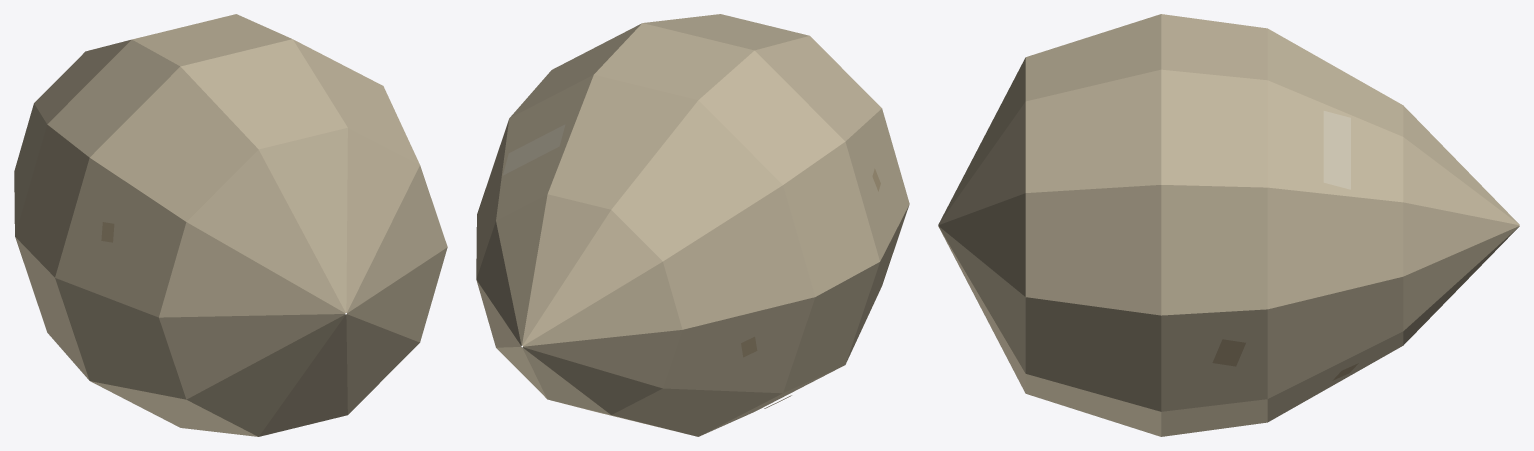
File: weeble_egg.glb
The picture shows the model from 3 angles, left to right: view 1: azimuth 30°, elevation 25°; view 2: azimuth 150°, elevation 25°; view 3: azimuth 270°, elevation 25°; orthographic projection.
Visible parts, largest first — view 1: 763_chicken_egg; view 2: 763_chicken_egg; view 3: 763_chicken_egg.
Part boxes in pixels (x1,y1,x2,y2): 763_chicken_egg: [14, 14, 447, 436]; 763_chicken_egg: [476, 14, 909, 436]; 763_chicken_egg: [938, 14, 1519, 436].
Bounding box in the file's own units: 0.044 × 0.0418 × 0.06.
